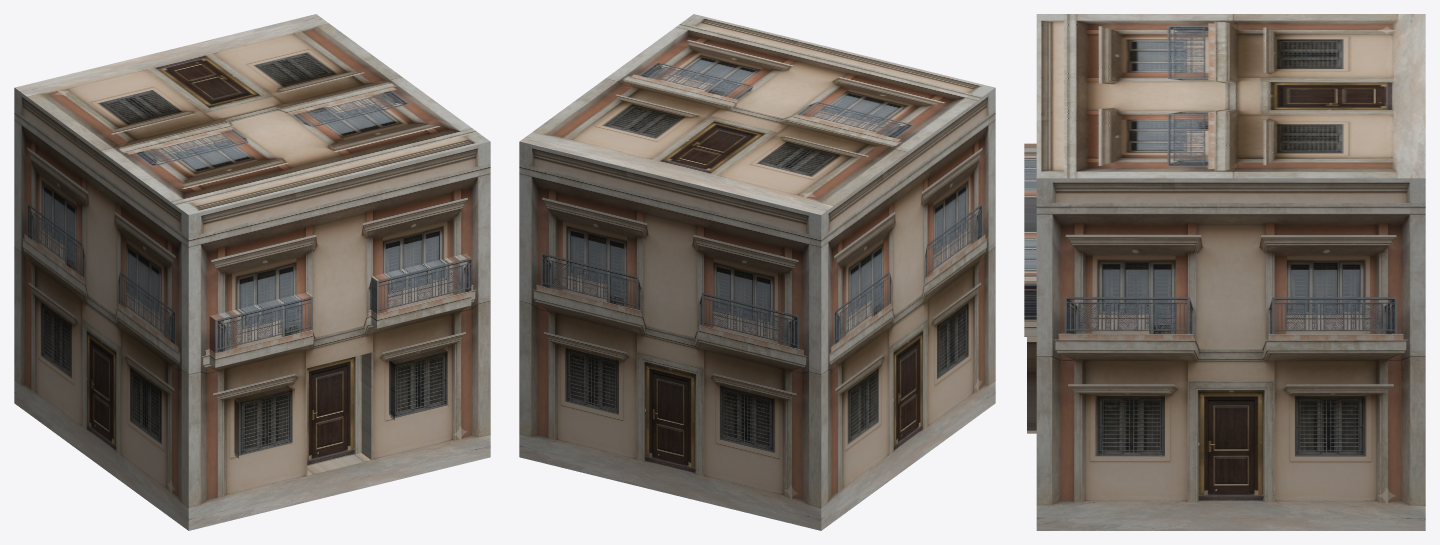
Rendered from building4.glb.
The picture shows the model from 3 angles, left to right: view 1: azimuth 30°, elevation 25°; view 2: azimuth 150°, elevation 25°; view 3: azimuth 270°, elevation 25°; orthographic projection. The views are drawn at different scales.
Visible parts, largest first — view 1: Cube_0; view 2: Cube_0; view 3: Cube_0.
Boxes of the visible parts, bbox=[...] form: Cube_0: bbox=[14, 14, 490, 530]; Cube_0: bbox=[519, 14, 995, 530]; Cube_0: bbox=[1024, 14, 1425, 530].
Size of the model in its own units: 5 by 5 by 5.16.
1 material, 1 textured.
